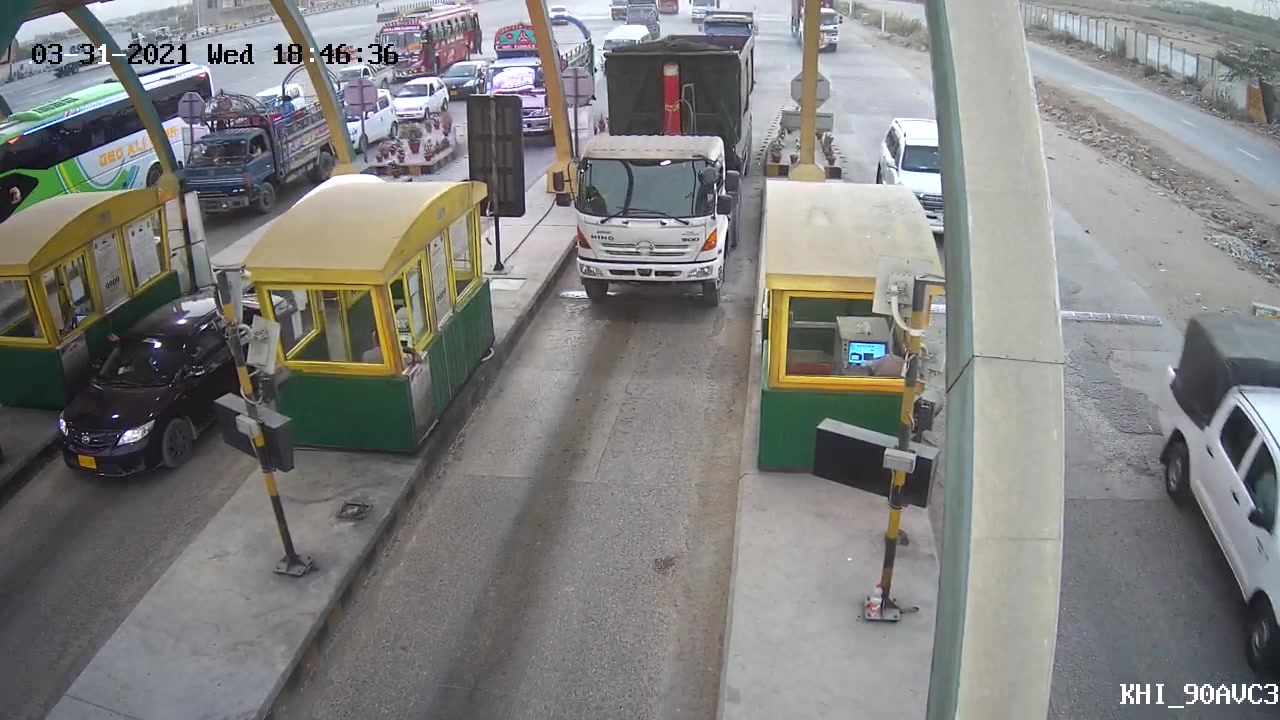F6: (551, 21, 763, 321)
